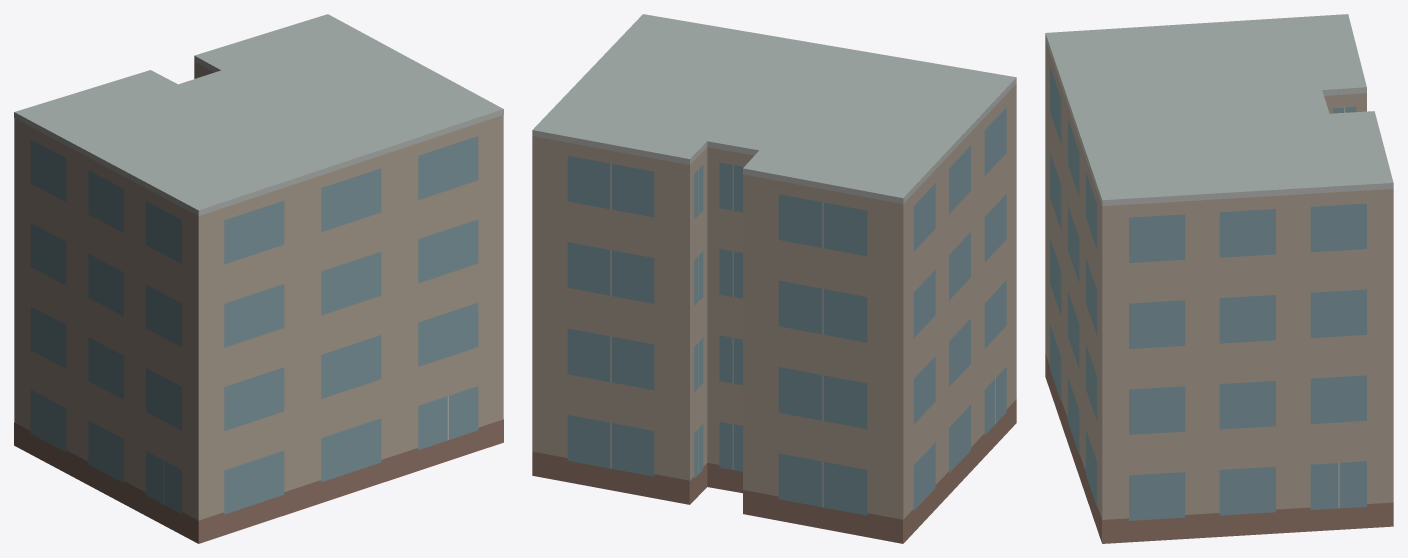
Rendered from survey-upis-32676469.glb.
3 renders of one model, left to right at view 1: azimuth 30°, elevation 25°; view 2: azimuth 150°, elevation 25°; view 3: azimuth 270°, elevation 25°, orthographic. The views are drawn at different scales.
Visible parts, largest first — view 1: survey-upis-32676469.tmp; view 2: survey-upis-32676469.tmp; view 3: survey-upis-32676469.tmp.
Boxes of the visible parts, x1,y1,x2,y2 form: survey-upis-32676469.tmp: (14,14,503,543); survey-upis-32676469.tmp: (532,14,1016,543); survey-upis-32676469.tmp: (1045,14,1393,543).
Bounding box in the file's own units: 16.4 × 14.1 × 12.96.
